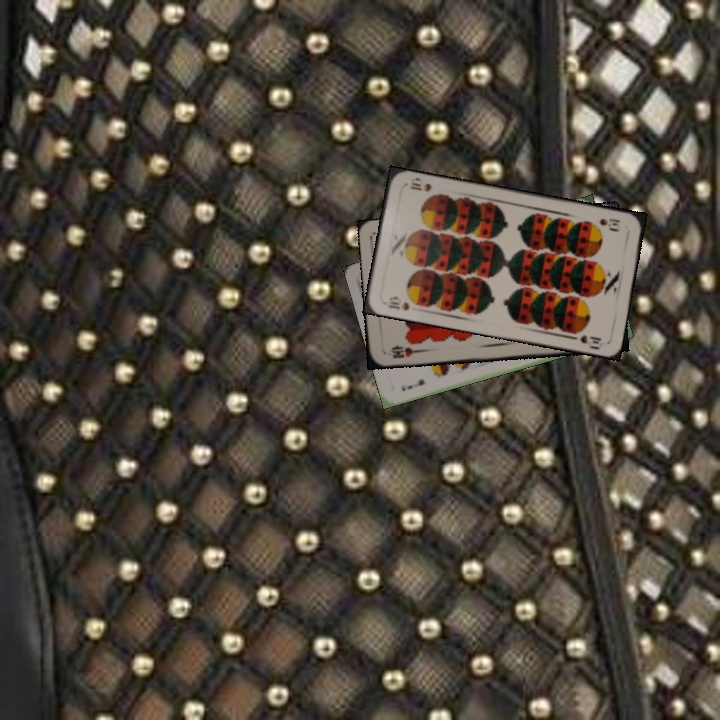E7: (398, 375, 427, 394)
H10: (387, 342, 423, 361)
S10: (384, 293, 412, 313), (595, 214, 622, 232)
